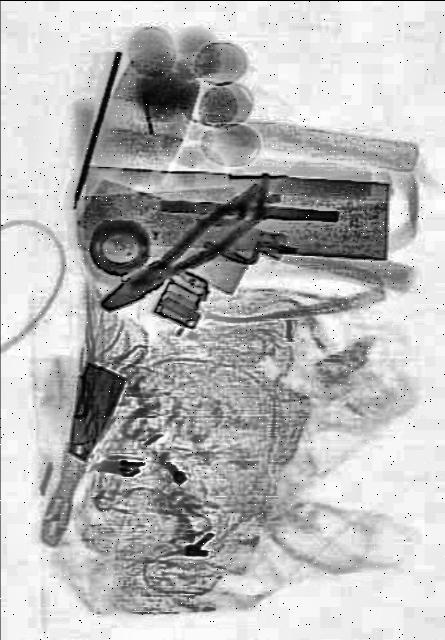Pliers: (96, 176, 276, 326)
